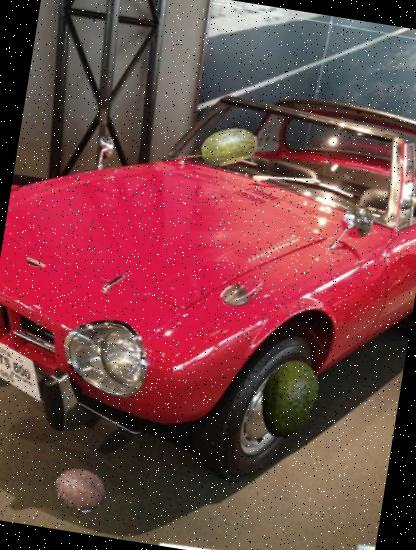Avocado: (240, 352, 335, 446)
Cocos: (51, 460, 112, 521)
Melon: (197, 115, 262, 180)
